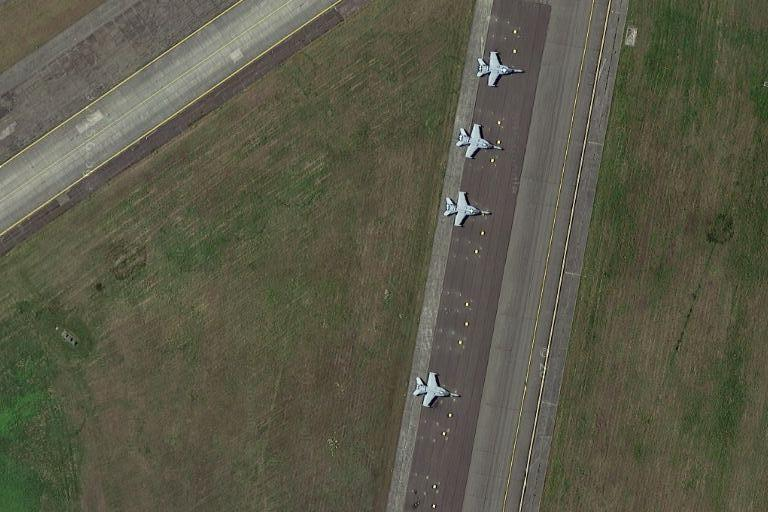F/A-18: (407, 369, 462, 410), (440, 190, 494, 231), (451, 122, 506, 160), (473, 49, 526, 88)
